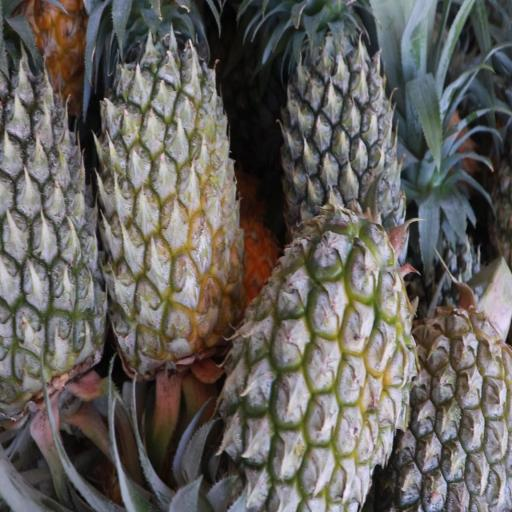------------------------------: (98, 12, 241, 368), (223, 232, 402, 505)
